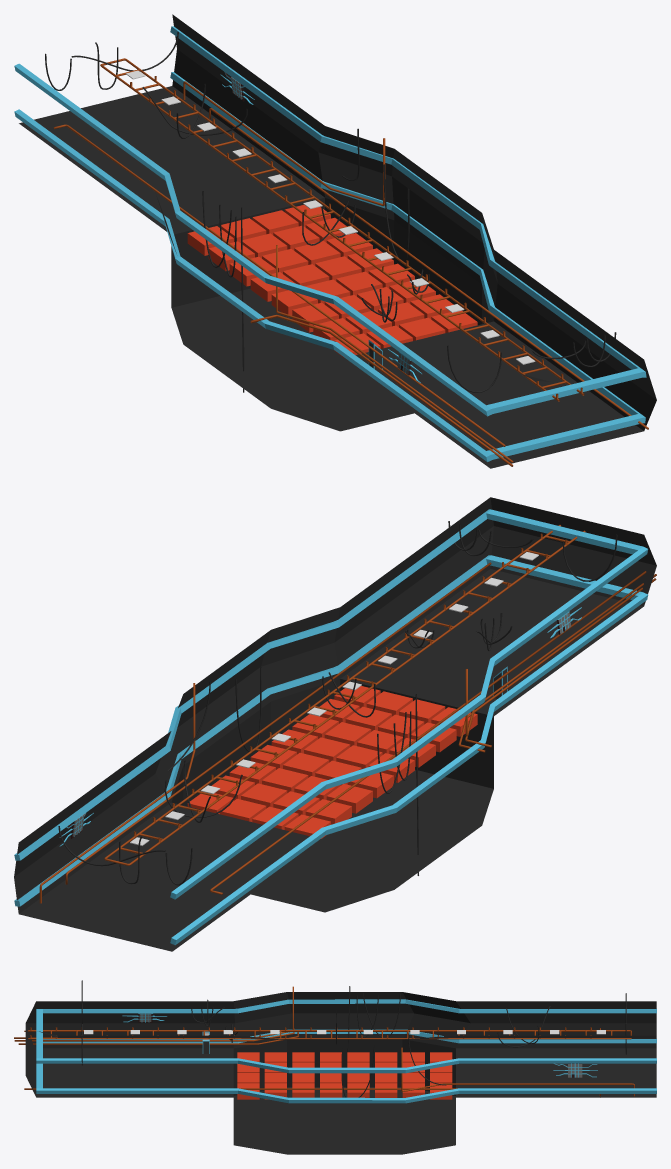
The model's file is trial1.fbx.
3 views of the same model, one above another, from view 1: azimuth 30°, elevation 25°; view 2: azimuth 150°, elevation 25°; view 3: azimuth 270°, elevation 25° (orthographic). The views are drawn at different scales.
Visible parts, largest first — view 1: Base, pattern, Leds, Leds.001, BigPipe, Cables, pipe1, pipe3, Lights, pipe4, pipe5, pipe2; view 2: Base, pattern, Leds, Leds.001, BigPipe, Cables, pipe1, pipe3, Lights, pipe2, pipe4, pipe5; view 3: Base, Leds, pattern, Leds.001, BigPipe, Cables, Lights, pipe2, pipe6, pipe5, pipe1, pipe3 (+1 smaller).
Part boxes in pixels (x1,y1,x2,y2): Base: (19, 14, 656, 468); pattern: (187, 205, 477, 357); Leds: (14, 26, 646, 416); Leds.001: (14, 72, 645, 461); BigPipe: (100, 58, 584, 401); Cables: (45, 31, 616, 392); pipe1: (209, 108, 648, 429); pipe3: (54, 124, 505, 446); Lights: (126, 70, 535, 364); pipe4: (276, 245, 513, 462); pipe5: (250, 314, 512, 466); pipe2: (183, 81, 385, 206); Base: (14, 497, 656, 951); pattern: (187, 686, 477, 838); Leds: (14, 509, 648, 899); Leds.001: (14, 555, 648, 945); BigPipe: (104, 525, 585, 865); Cables: (58, 521, 617, 885); pipe1: (65, 562, 491, 884); pipe3: (210, 571, 646, 894); Lights: (130, 552, 538, 845); pipe2: (39, 683, 195, 903); pipe4: (465, 574, 656, 736); pipe5: (465, 578, 656, 747); Base: (25, 992, 656, 1154); Leds: (36, 999, 656, 1073); pattern: (237, 1052, 452, 1099); Leds.001: (36, 1029, 656, 1103); BigPipe: (28, 1027, 631, 1039); Cables: (81, 980, 626, 1097); Lights: (84, 1030, 605, 1034); pipe2: (401, 1047, 634, 1096); pipe6: (18, 1032, 298, 1044); pipe5: (14, 1028, 294, 1041); pipe1: (24, 1088, 600, 1096); pipe3: (24, 1028, 600, 1031).
Bounding box in the file's own units: 2450 × 1948 × 8939.
